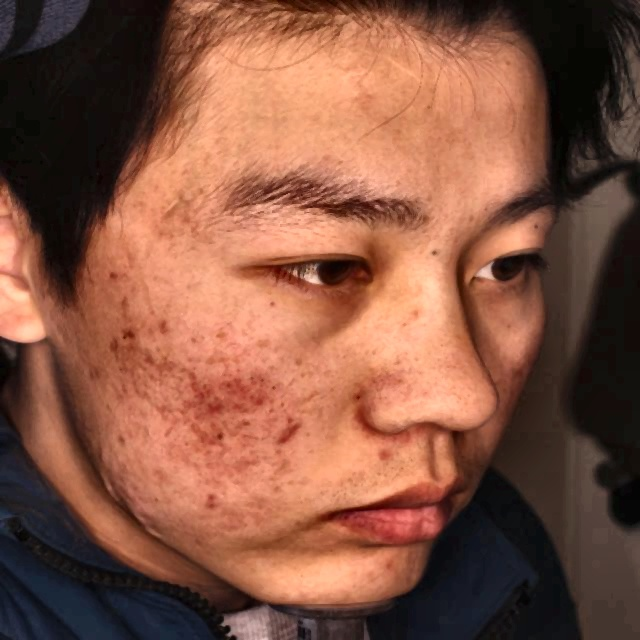comedone: (148, 311, 179, 345), (268, 420, 302, 444), (198, 397, 230, 421)
